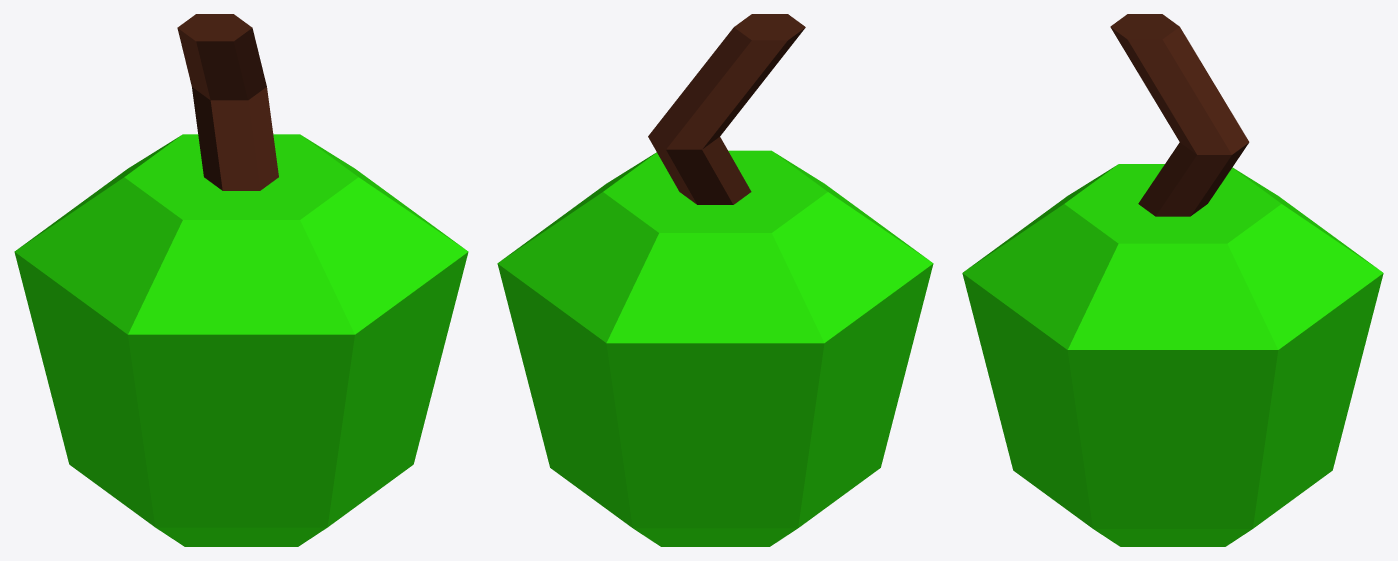
File: GreenApple.fbx
3 renders of one model, left to right at view 1: azimuth 30°, elevation 25°; view 2: azimuth 150°, elevation 25°; view 3: azimuth 270°, elevation 25°, orthographic. The views are drawn at different scales.
Visible parts, largest first — view 1: Cylinder; view 2: Cylinder; view 3: Cylinder.
Boxes of the visible parts, left/top/right/bottom form: Cylinder: left=14, top=14, right=468, bottom=546; Cylinder: left=497, top=14, right=933, bottom=546; Cylinder: left=962, top=14, right=1383, bottom=546.
Size of the model in its own units: 348 by 487 by 401.
